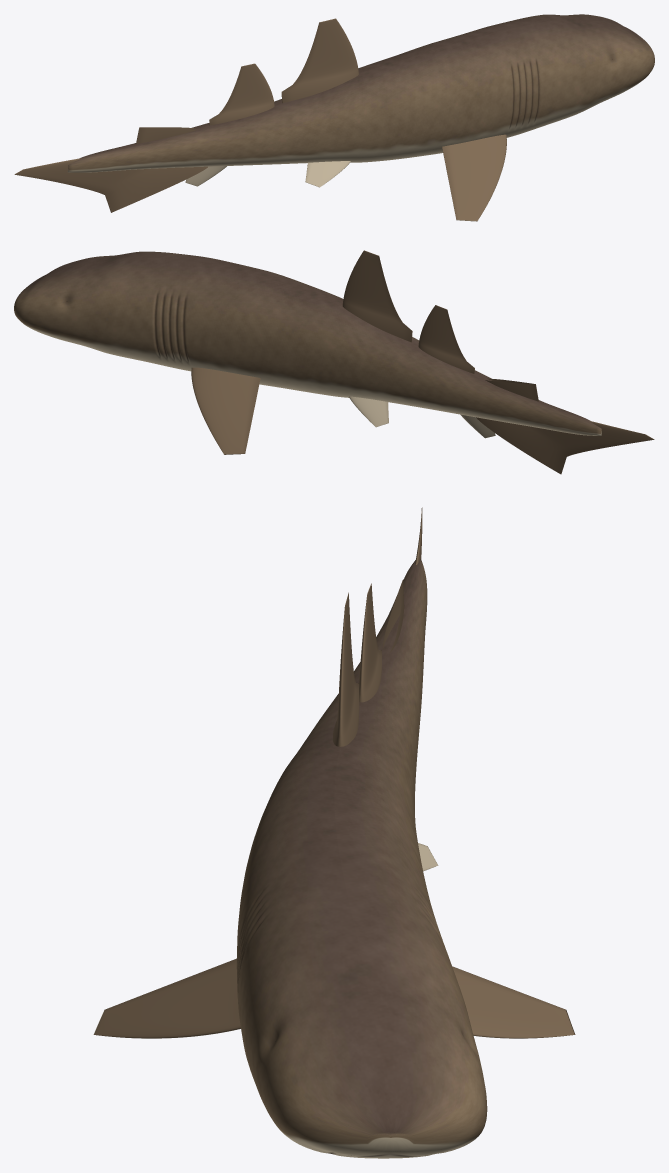
Rendered from nurse_shark.glb.
3 renders of one model, top to bottom at view 1: azimuth 30°, elevation 25°; view 2: azimuth 150°, elevation 25°; view 3: azimuth 270°, elevation 25°, orthographic. The views are drawn at different scales.
Parts seen in each view (by area): view 1: NurseShark_Body, NurseShark_Fins; view 2: NurseShark_Body, NurseShark_Fins; view 3: NurseShark_Body, NurseShark_Fins.
Boxes of the visible parts, x1=… form: NurseShark_Body: x1=67, y1=14, x2=654, y2=172; NurseShark_Fins: x1=14, y1=18, x2=506, y2=221; NurseShark_Body: x1=14, y1=251, x2=601, y2=435; NurseShark_Fins: x1=191, y1=250, x2=654, y2=474; NurseShark_Body: x1=236, y1=559, x2=487, y2=1158; NurseShark_Fins: x1=93, y1=507, x2=575, y2=1038.
Bounding box in the file's own units: 2.4 × 0.6498 × 0.8053.
Materials: 3 (1 with a texture image).
